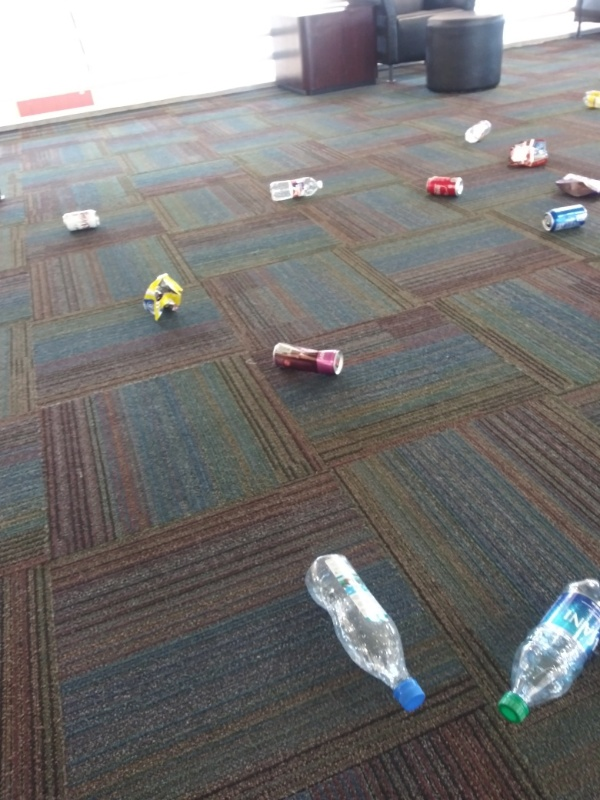bag: (139, 272, 194, 325), (504, 134, 557, 172), (550, 169, 600, 205)
bottle: (300, 552, 439, 714), (493, 568, 600, 729), (263, 175, 329, 206), (459, 117, 500, 149), (580, 84, 600, 108)
can: (264, 339, 348, 382), (539, 200, 591, 235), (57, 206, 104, 236), (419, 172, 469, 200)
